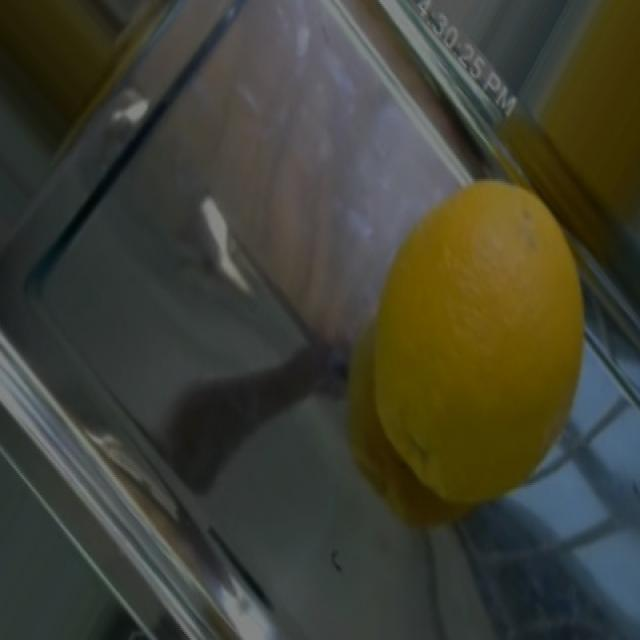Fruit: (347, 153, 602, 493)
